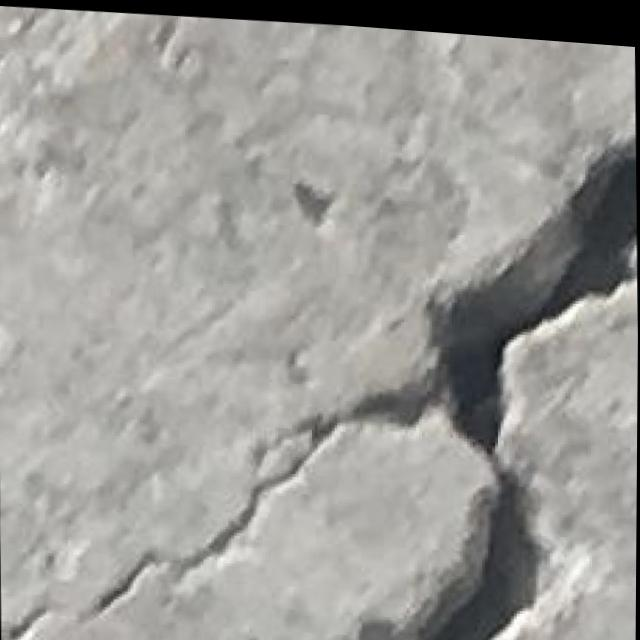Crack: (0, 87, 639, 640)
